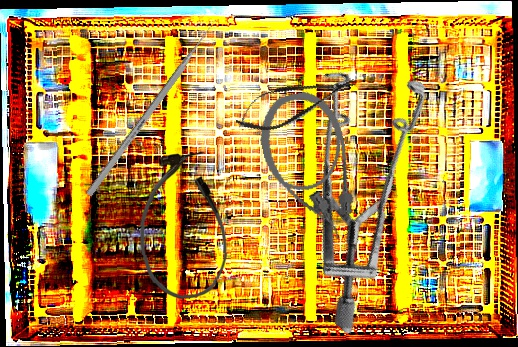Cannula: (252, 85, 365, 252), (136, 150, 230, 301)
Micro Scissor: (230, 63, 361, 141)
Pusher: (85, 16, 220, 198)
Speculum: (206, 31, 506, 337)
